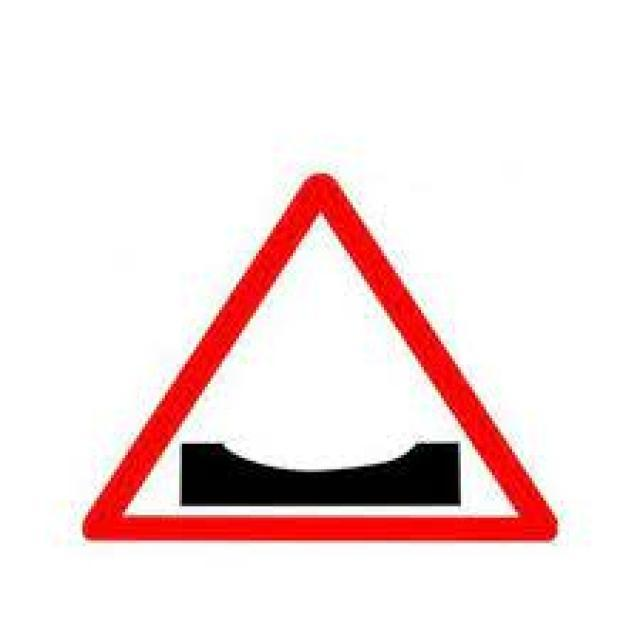dangerous dip: (80, 169, 561, 544)
